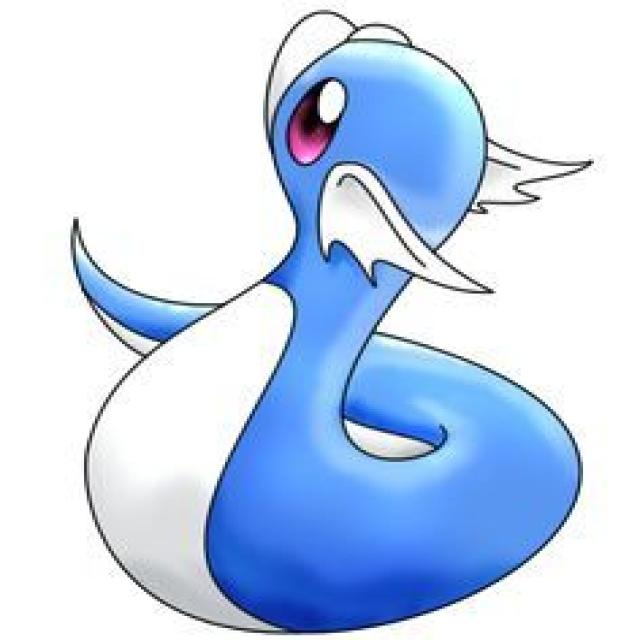Dratini: (97, 20, 583, 618)
